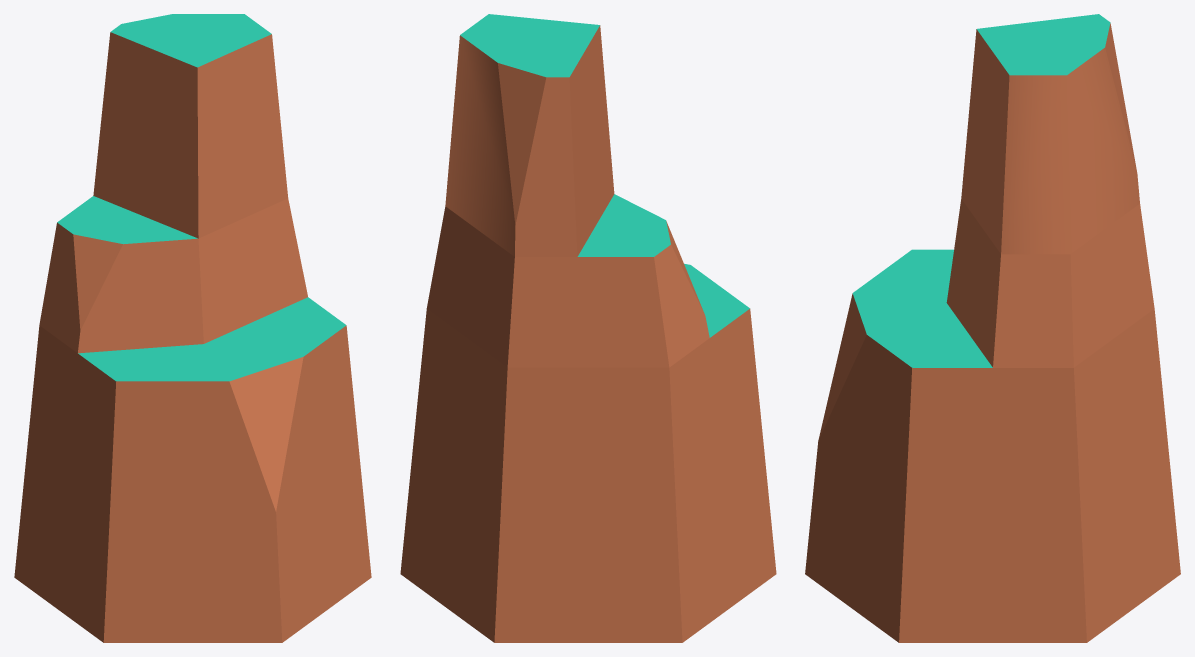
Rendered from rock_tallG.dae.
3 views of the same model, side by side, from view 1: azimuth 30°, elevation 25°; view 2: azimuth 150°, elevation 25°; view 3: azimuth 270°, elevation 25° (orthographic). The views are drawn at different scales.
Visible parts, largest first — view 1: rock_tallG; view 2: rock_tallG; view 3: rock_tallG.
Boxes of the visible parts, x1=… form: rock_tallG: x1=14, y1=14, x2=371, y2=642; rock_tallG: x1=400, y1=14, x2=776, y2=642; rock_tallG: x1=805, y1=14, x2=1180, y2=642.
Bounding box in the file's own units: 0.4249 × 0.7829 × 0.4907.
